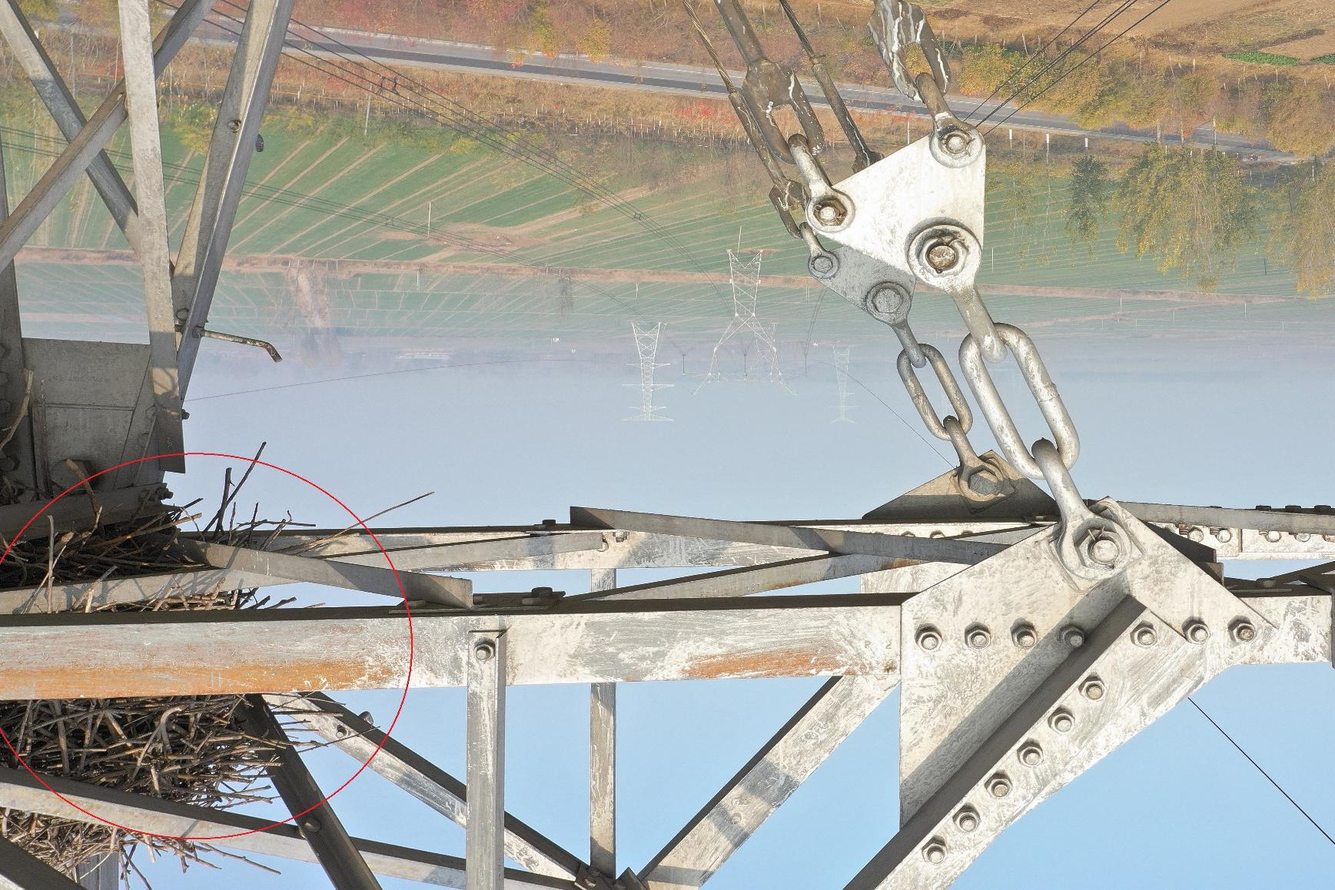nest: (1, 457, 306, 877)
